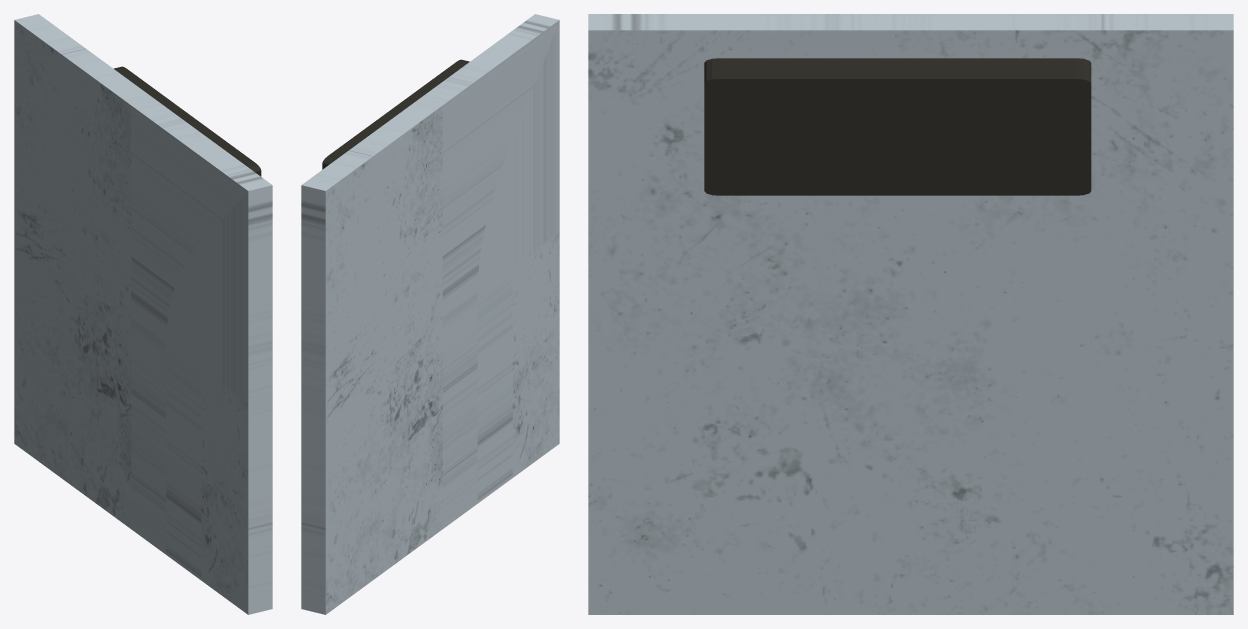
The model's file is Parede--ar.fbx.
The picture shows the model from 3 angles, left to right: view 1: azimuth 30°, elevation 25°; view 2: azimuth 150°, elevation 25°; view 3: azimuth 270°, elevation 25°; orthographic projection. The views are drawn at different scales.
Visible parts, largest first — view 1: ar; view 2: ar; view 3: ar.
Boxes of the visible parts, bbox=[...] form: ar: bbox=[14, 14, 272, 614]; ar: bbox=[301, 14, 559, 614]; ar: bbox=[588, 14, 1233, 614].
Size of the model in its own units: 67.95 by 500 by 500.
